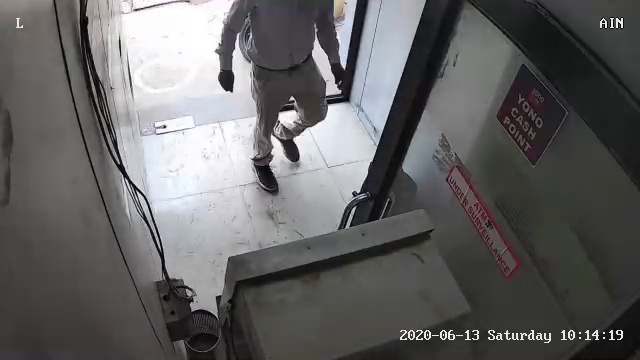open: (115, 9, 310, 155)
